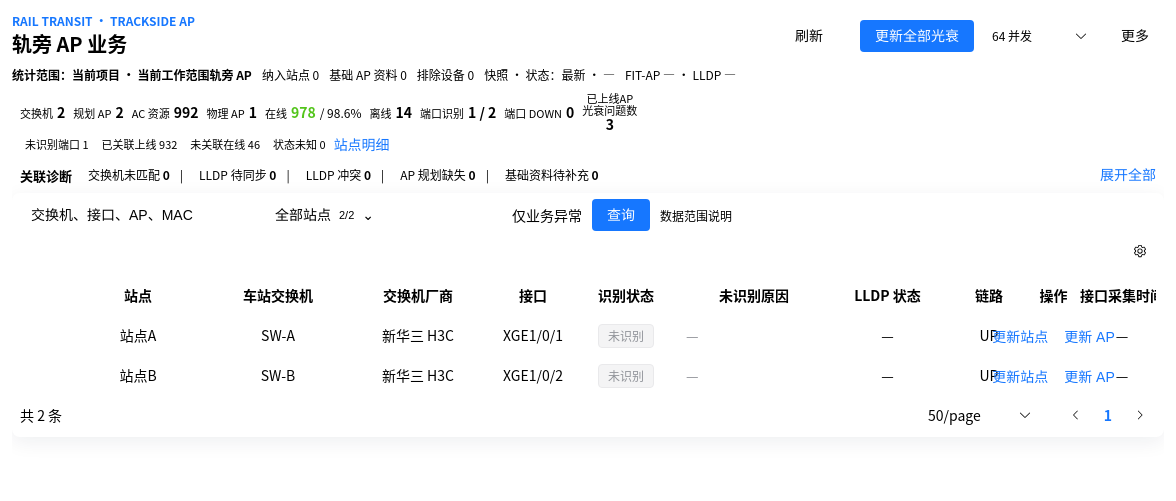
it: TracksideApBusinessView mounted behavior › retains the last successful table when a refresh request fails
Click the button "刷新".
click(809, 36)  # box [780,20,838,52]
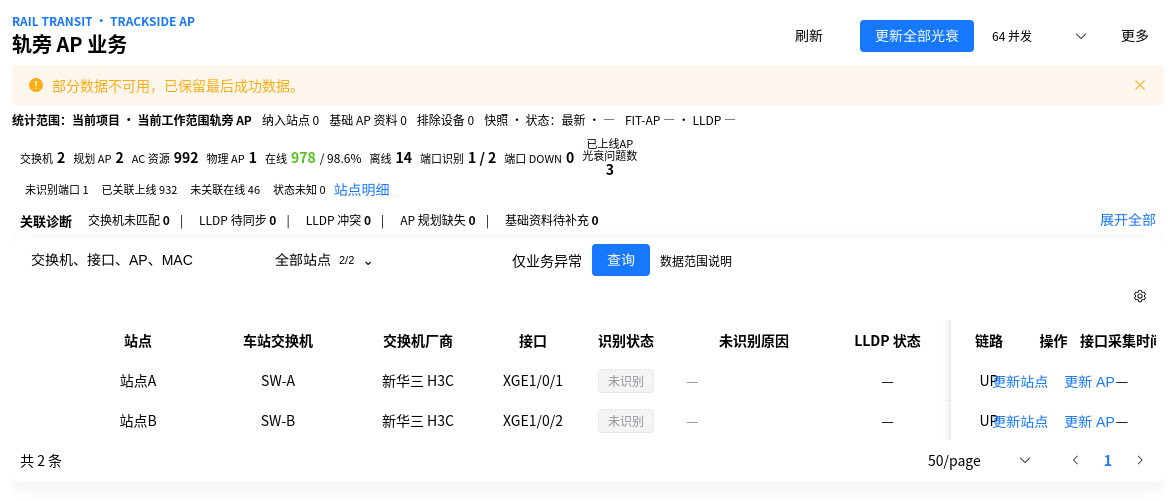
Check: the text "部分数据不可用，已保留最后成功数据。" is shown, box [52,73,304,97]
